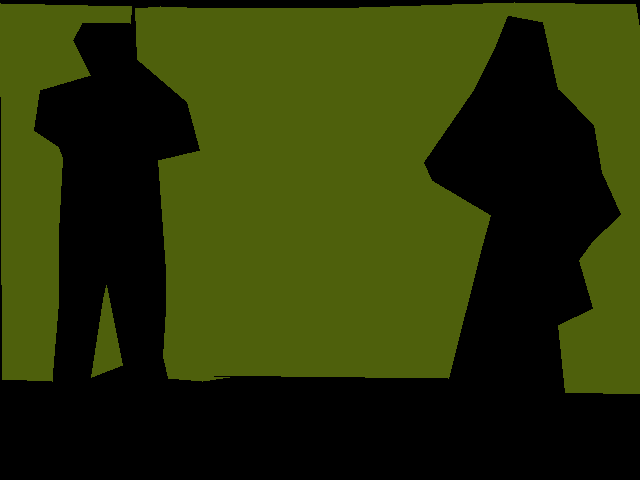Train: (0, 2, 640, 395)
